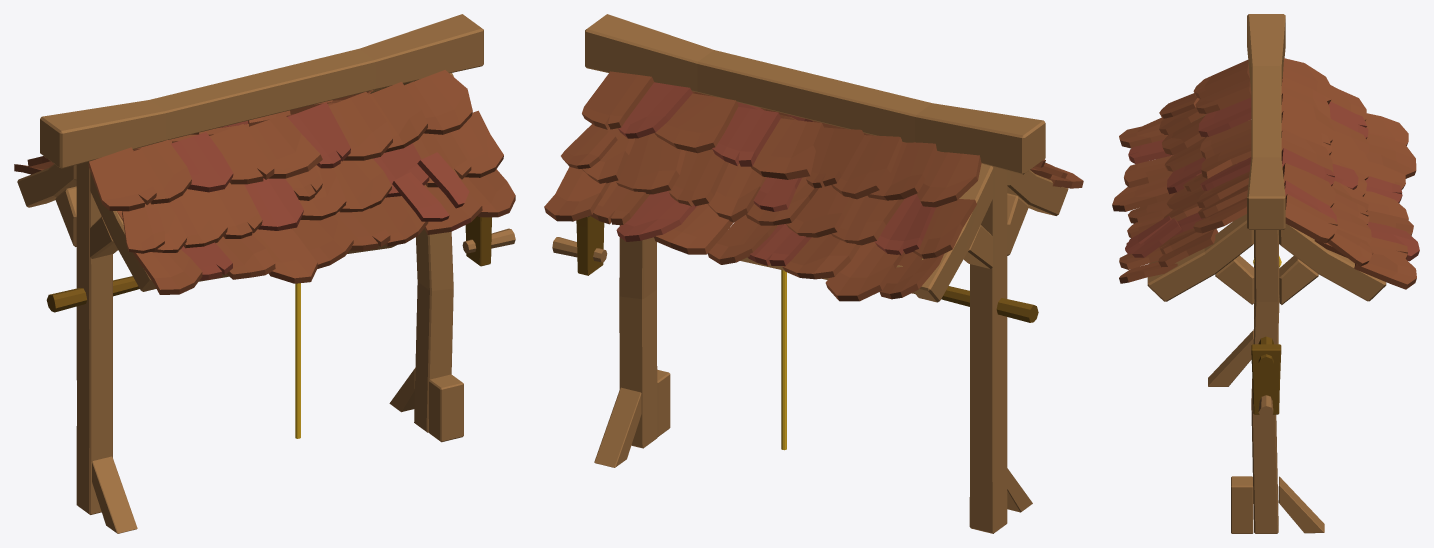
File: PitShaftTop.fbx
3 views of the same model, side by side, from view 1: azimuth 30°, elevation 25°; view 2: azimuth 150°, elevation 25°; view 3: azimuth 270°, elevation 25° (orthographic). The views are drawn at different scales.
Visible parts, largest first — view 1: SuperPitTop; view 2: SuperPitTop; view 3: SuperPitTop.
Part boxes in pixels (x1,y1,x2,y2): SuperPitTop: [14, 14, 515, 533]; SuperPitTop: [544, 14, 1083, 533]; SuperPitTop: [1112, 14, 1419, 533].
Size of the model in its own units: 1354 by 1106 by 881.
